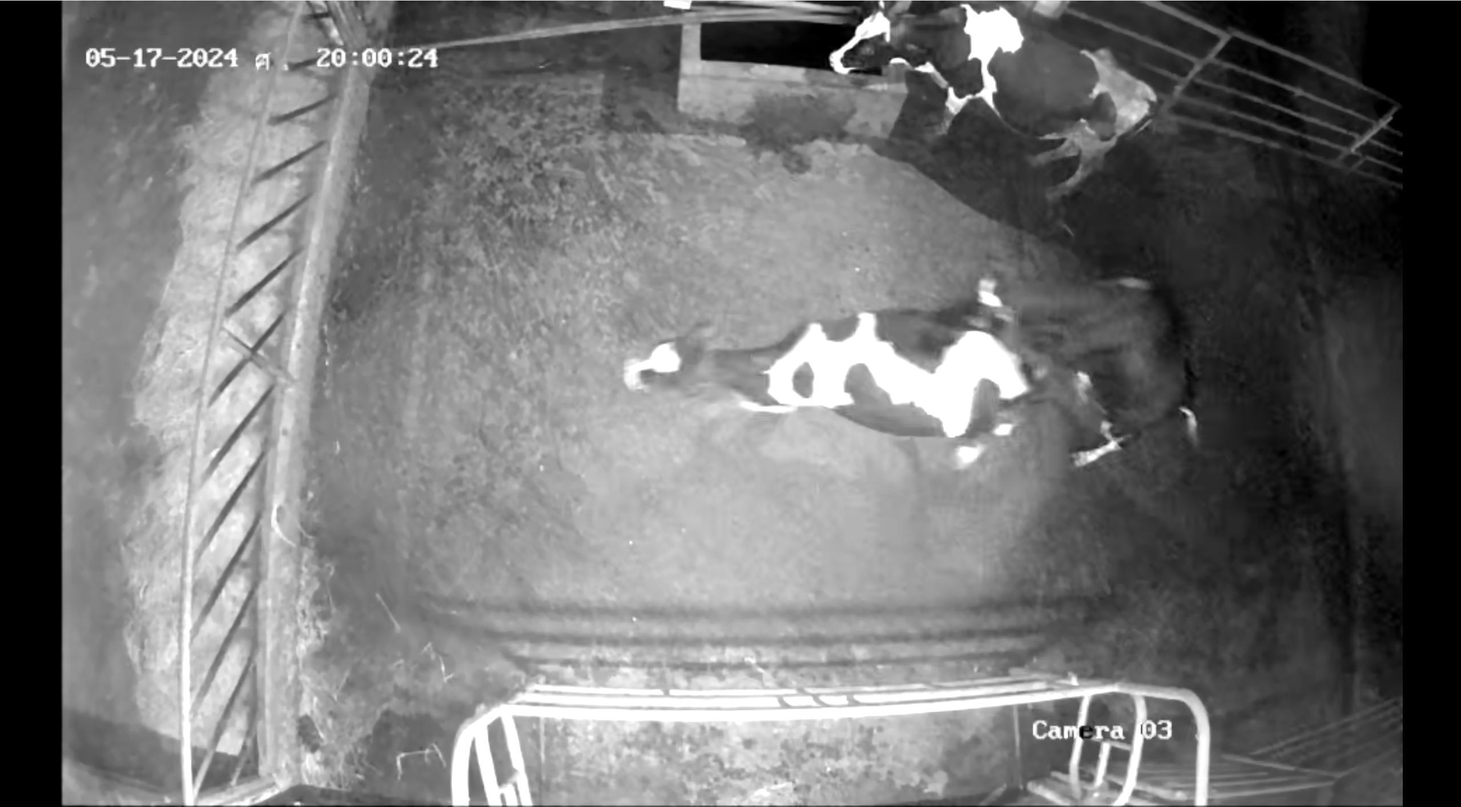drink: (814, 0, 969, 106)
ride: (915, 225, 1227, 513)
stand: (598, 301, 1021, 471)
